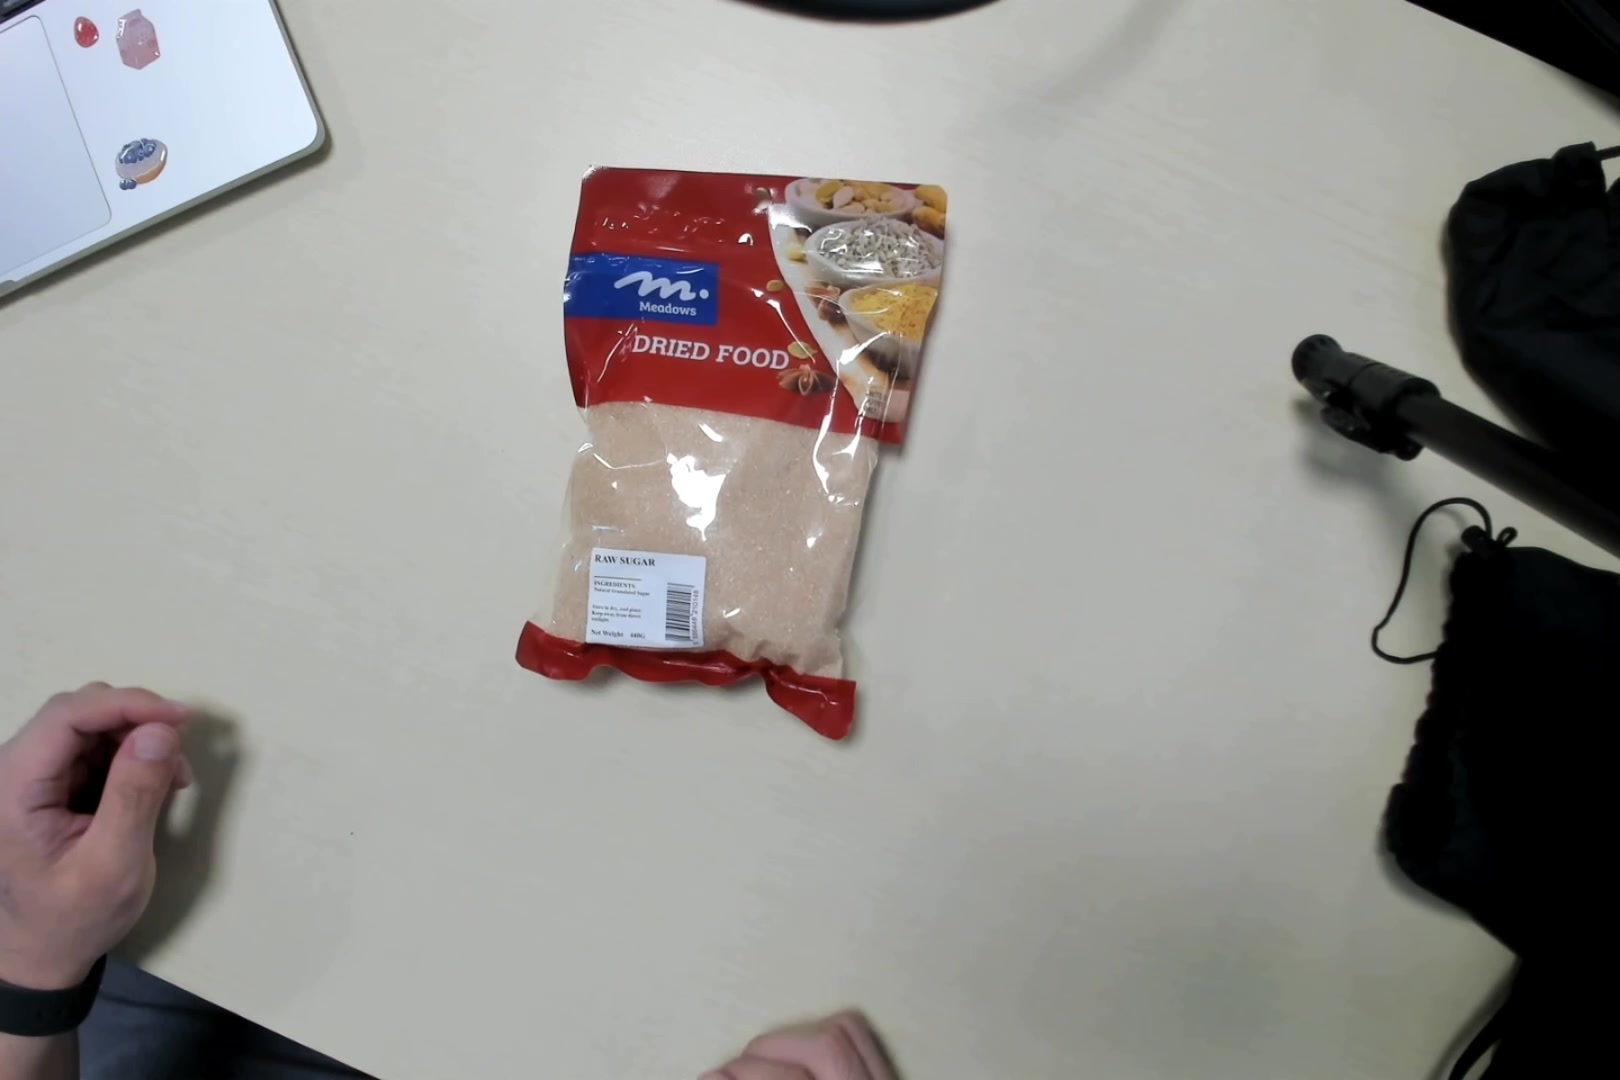Suger_200-299g_Halal_NonHealthy: (520, 155, 939, 742)
